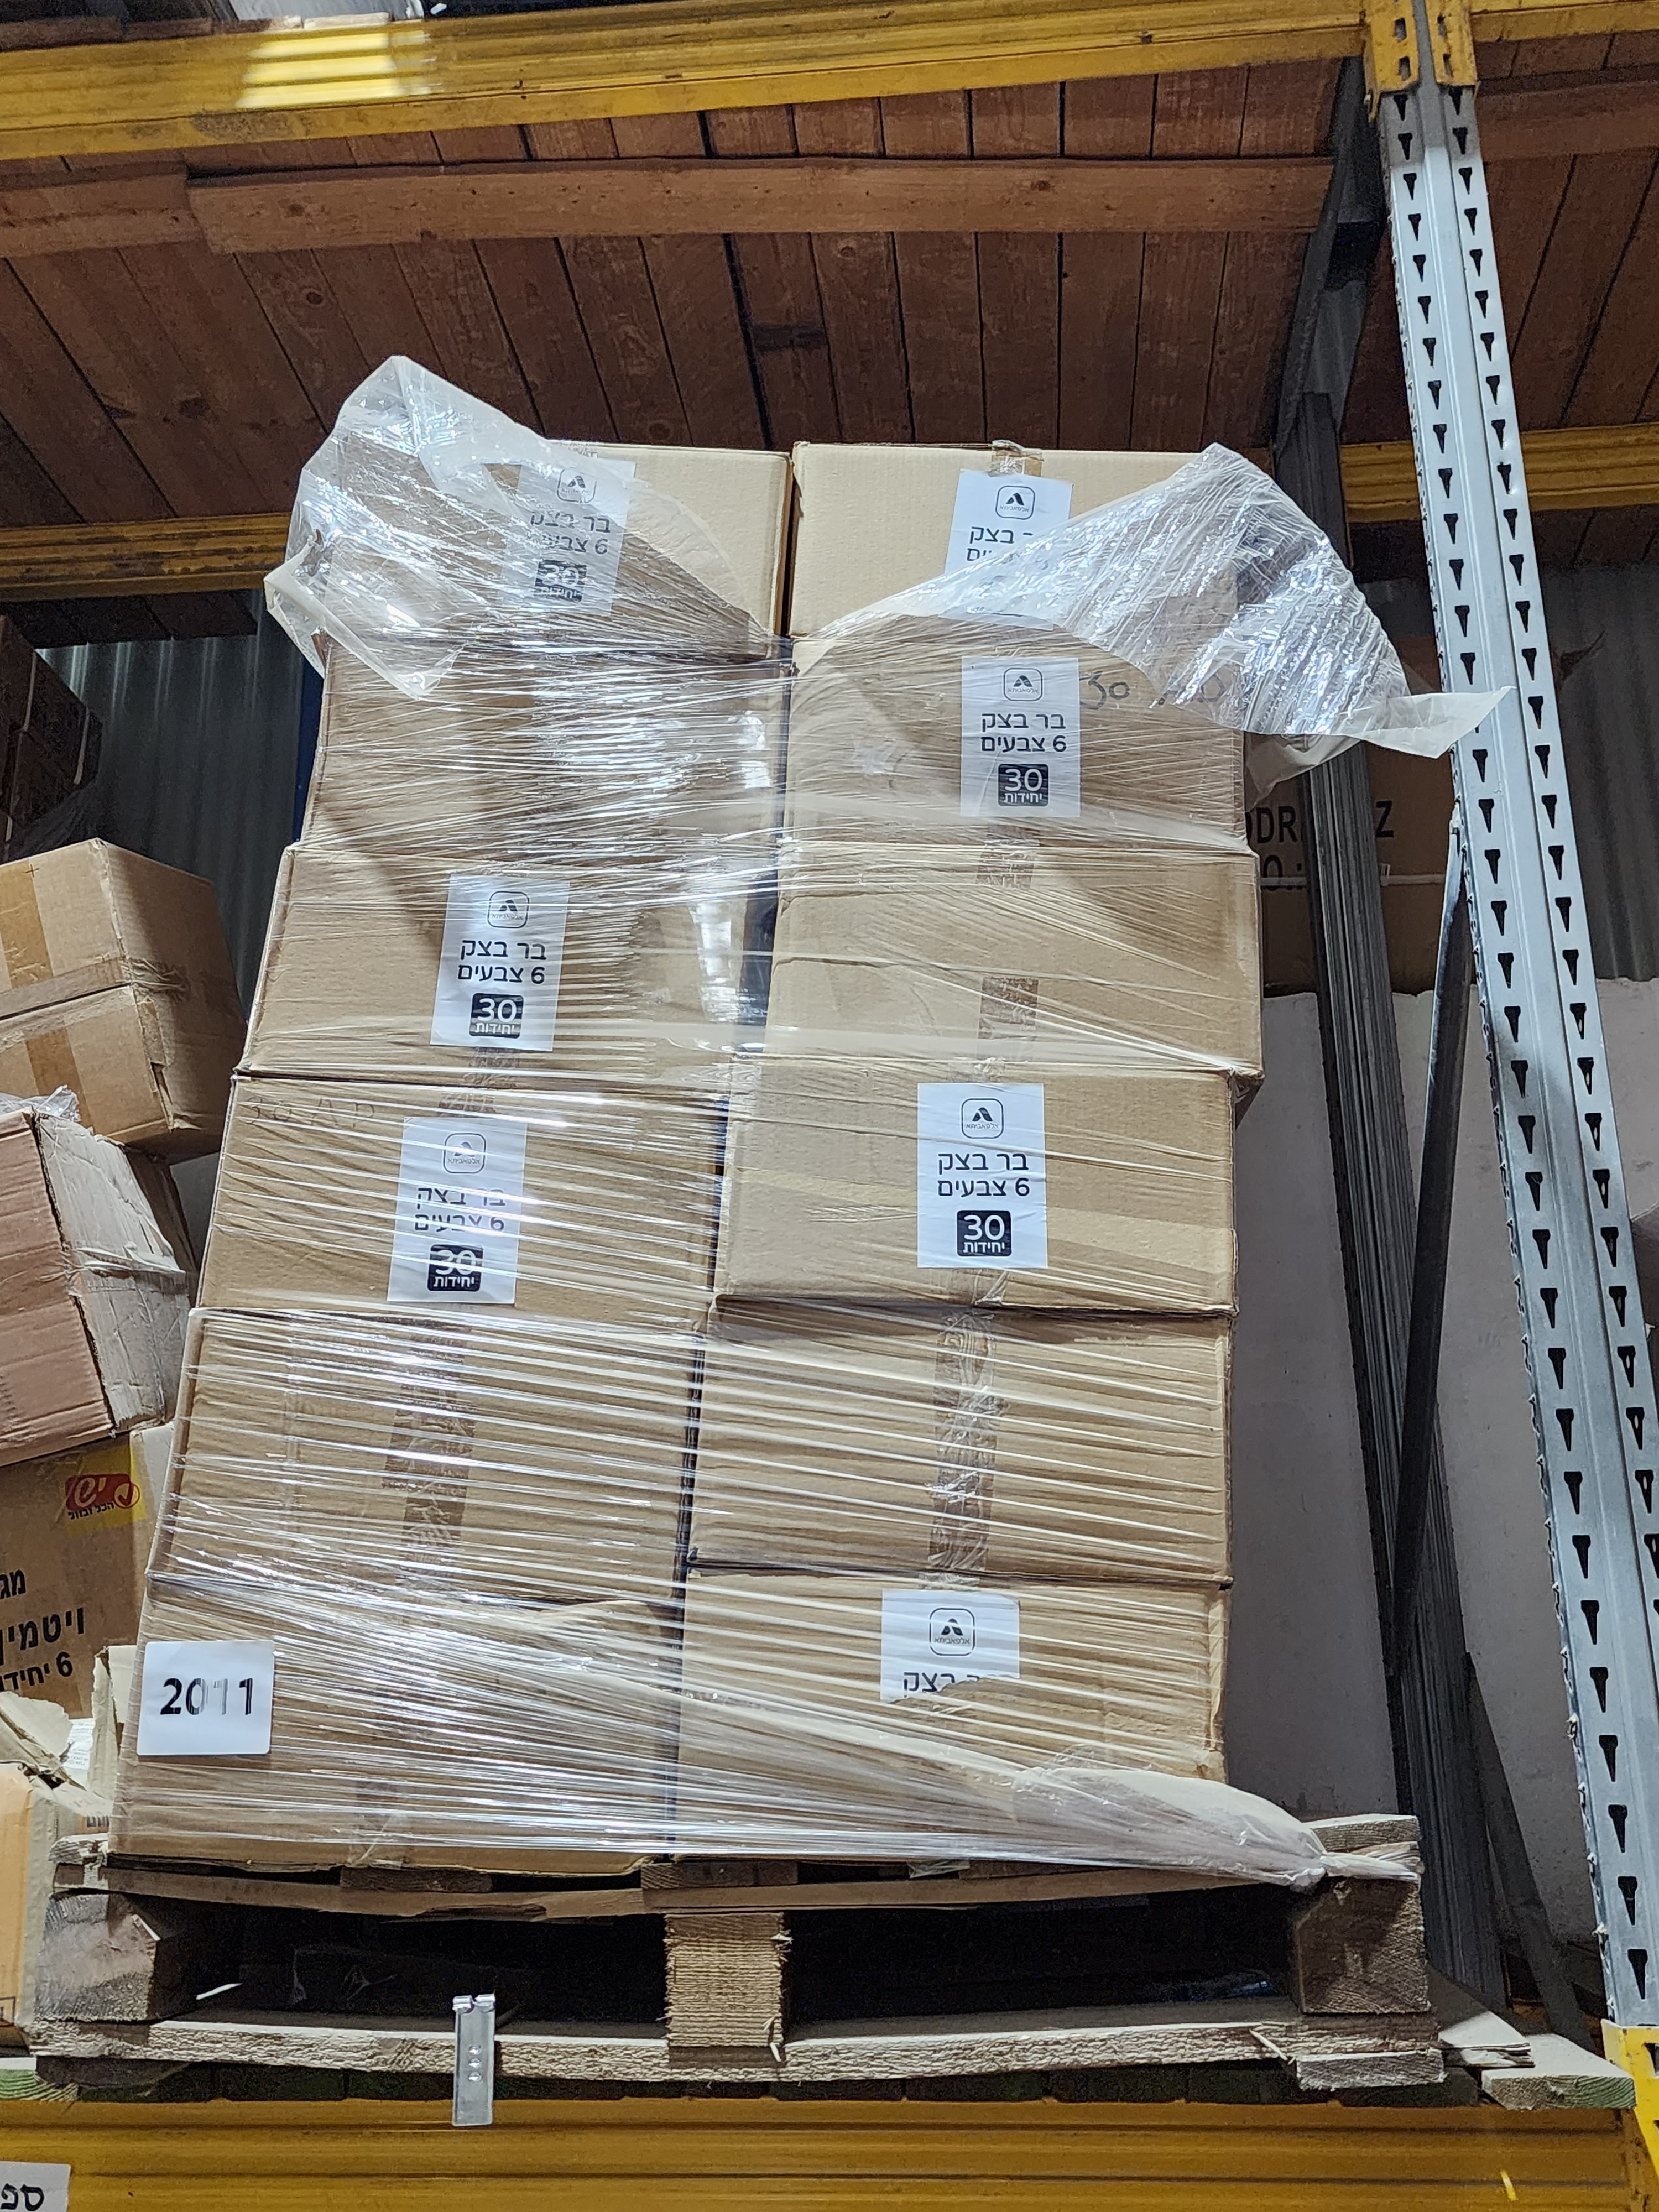box: (87, 1252, 714, 1630), (622, 1507, 1283, 1848), (87, 1554, 727, 1886), (678, 1256, 1283, 1604), (669, 1019, 1263, 1357), (157, 1008, 730, 1353), (216, 573, 791, 888), (261, 390, 809, 698), (209, 810, 769, 1106), (734, 791, 1305, 1080), (741, 383, 1290, 672), (746, 624, 1270, 881)
